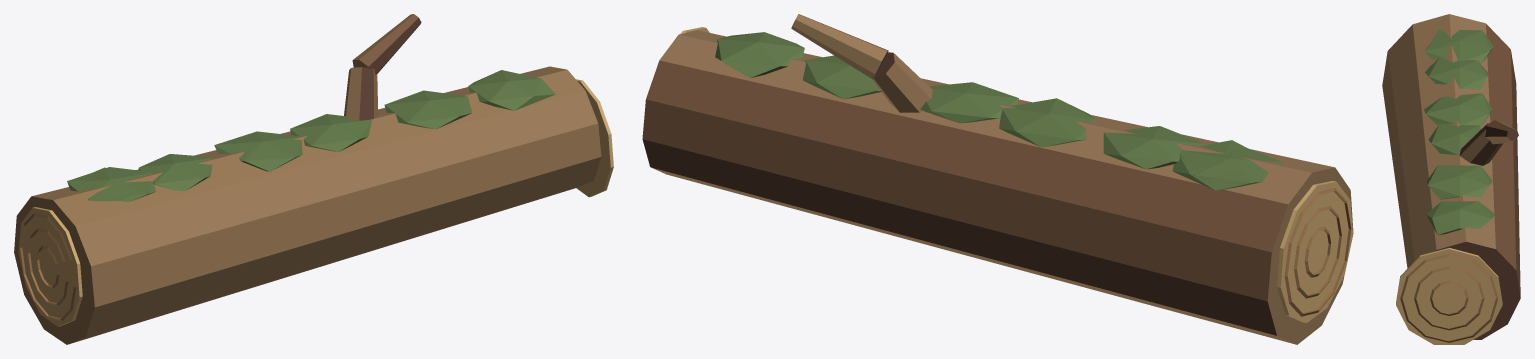
File: fallen_log.glb
The picture shows the model from 3 angles, left to right: view 1: azimuth 30°, elevation 25°; view 2: azimuth 150°, elevation 25°; view 3: azimuth 270°, elevation 25°; orthographic projection. The views are drawn at different scales.
Visible parts, largest first — view 1: fallen_log; view 2: fallen_log; view 3: fallen_log.
Boxes of the visible parts, x1,y1,x2,y2 form: fallen_log: (14,14,613,344); fallen_log: (642,14,1353,344); fallen_log: (1382,14,1520,344).
Bounding box in the file's own units: 2.57 × 0.9147 × 0.6538.
